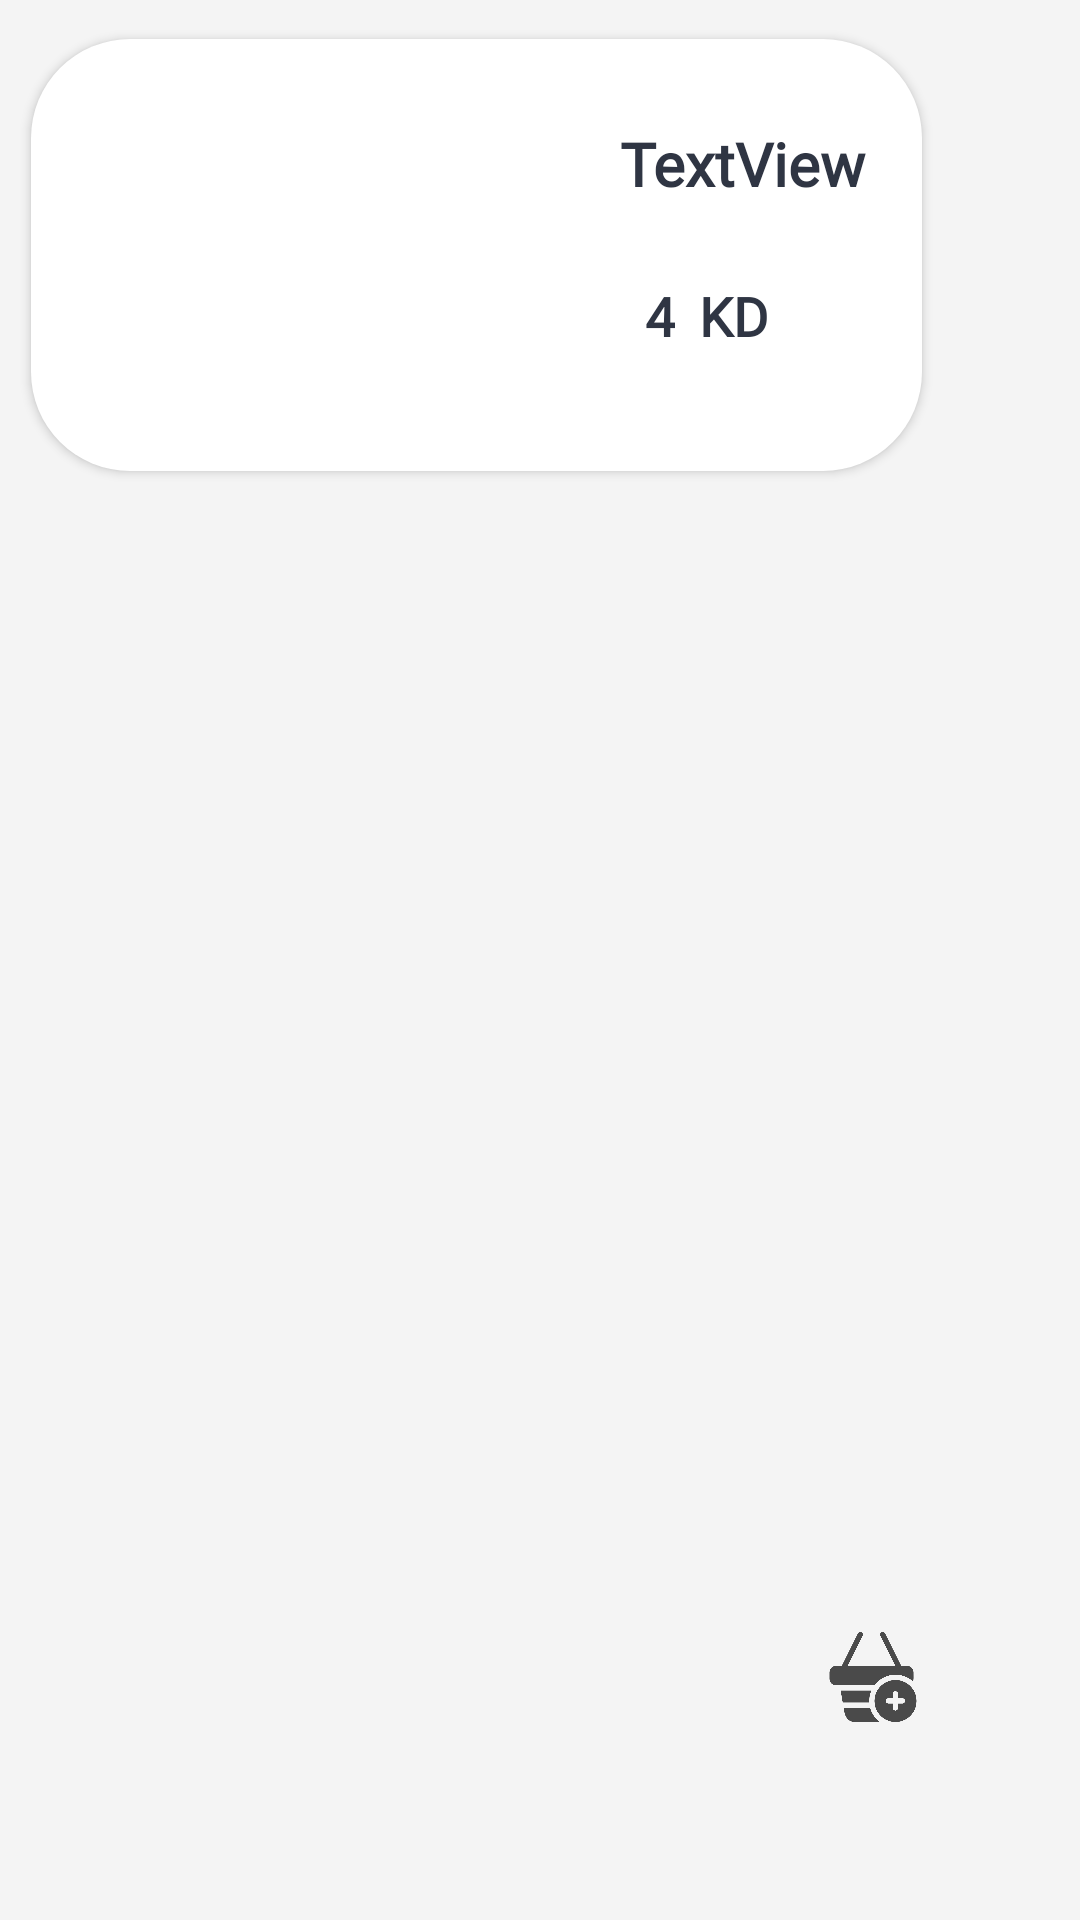

Icon bounding boxes for this 1080px×1920px phone screenshot, format (x1, y1, x2, y2):
addtobasket: (829, 1632, 917, 1722)
